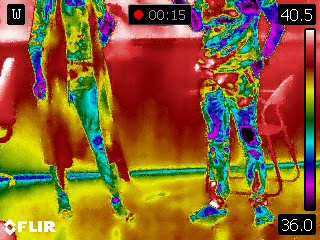human: (24, 1, 136, 222), (184, 1, 286, 228)
